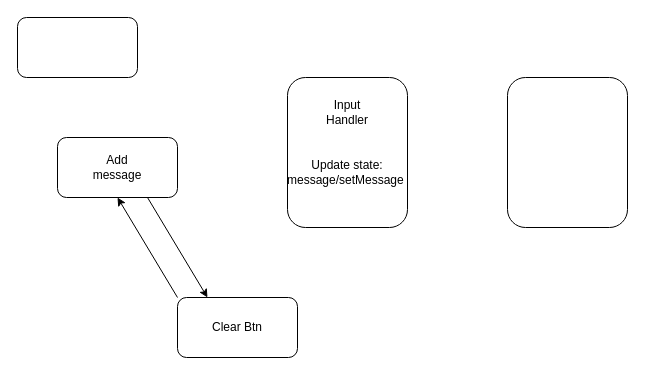
This 645x375 diagram has some shape labels left out. The shapes that lost their labels are listed below. From the top down, each one's box as (x1, y1, x2, y2) in pixels, then its label:
(16, 16, 138, 78): Add Todo
(506, 76, 628, 228): Add btn
